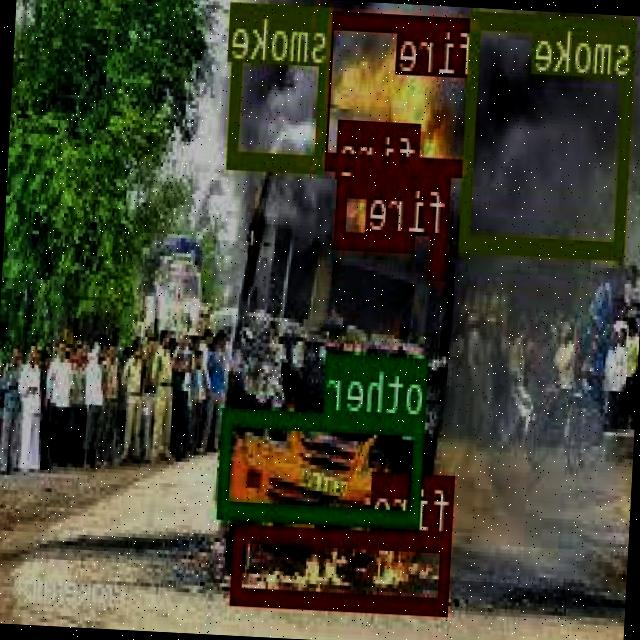fire: (319, 10, 482, 175), (232, 521, 453, 612), (338, 179, 419, 247), (431, 233, 450, 274)
smoke: (462, 8, 638, 255), (229, 0, 335, 169)
